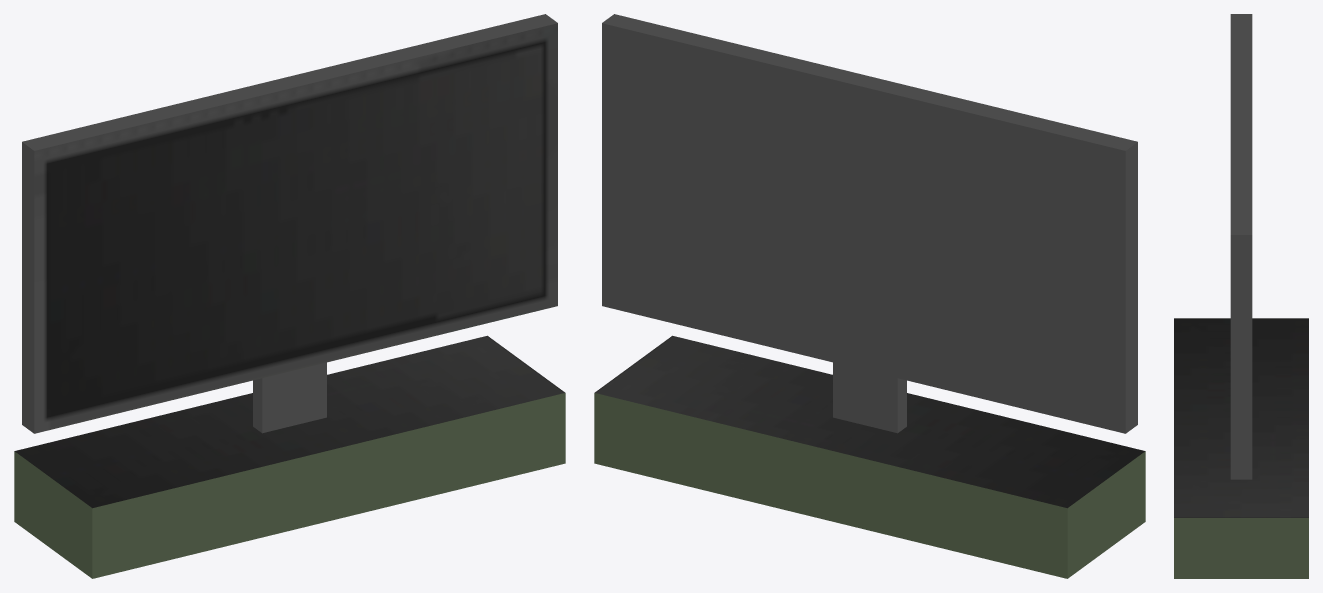
The model's file is Building_FlatscreenTelevision.glb.
The picture shows the model from 3 angles, left to right: view 1: azimuth 30°, elevation 25°; view 2: azimuth 150°, elevation 25°; view 3: azimuth 270°, elevation 25°; orthographic projection. The views are drawn at different scales.
Parts seen in each view (by area): view 1: FlatscreenTelevision; view 2: FlatscreenTelevision; view 3: FlatscreenTelevision.
Part boxes in pixels (bbox=[...]): FlatscreenTelevision: bbox=[14, 14, 565, 578]; FlatscreenTelevision: bbox=[594, 14, 1145, 578]; FlatscreenTelevision: bbox=[1174, 14, 1308, 578].
Bounding box in the file's own units: 1.94 × 1.45 × 0.5.
1 material, 1 textured.
